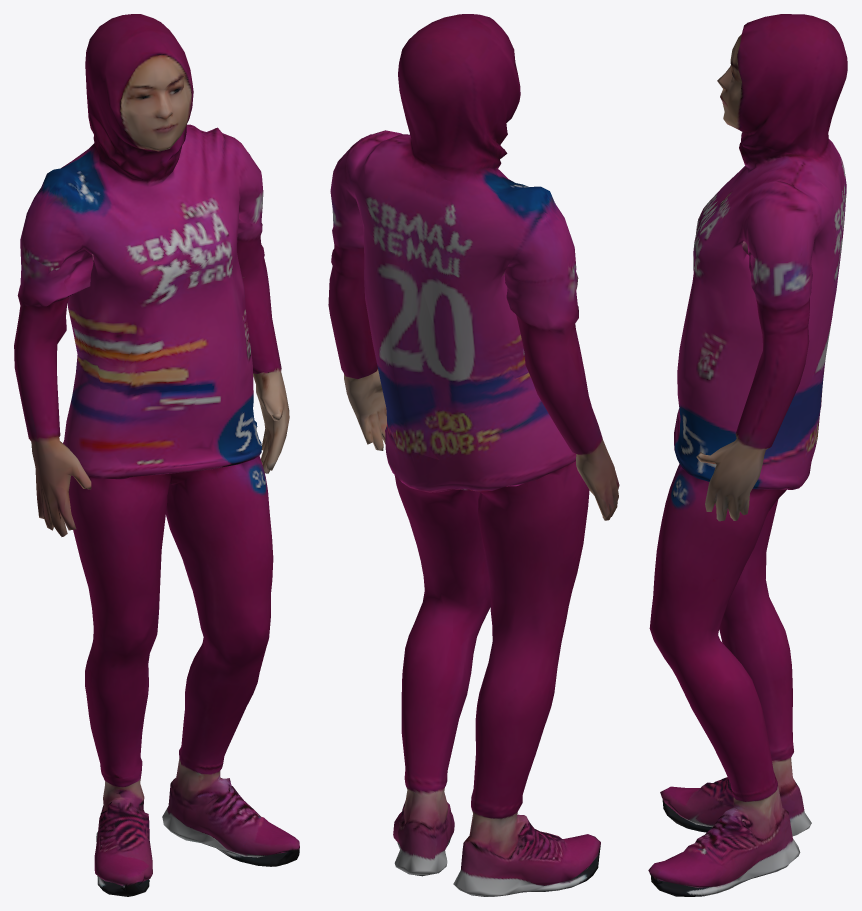
File: 5_2_idle.glb
3 views of the same model, side by side, from view 1: azimuth 30°, elevation 25°; view 2: azimuth 150°, elevation 25°; view 3: azimuth 270°, elevation 25° (orthographic). The views are drawn at different scales.
Parts seen in each view (by area): view 1: Idle; view 2: Idle; view 3: Idle.
Part boxes in pixels (x1,y1,x2,y2): Idle: (14,14,299,896); Idle: (328,14,619,896); Idle: (648,14,847,896).
Size of the model in its own units: 30.65 by 98.22 by 21.33.
1 material, 1 textured.
